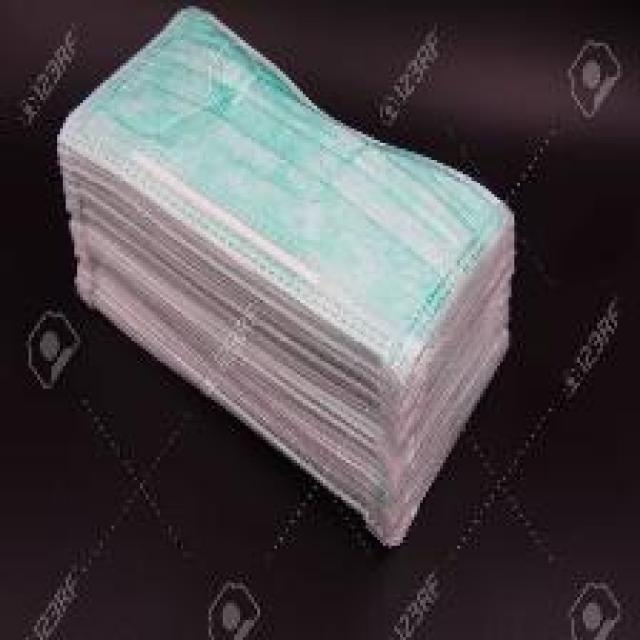Mask: (54, 39, 526, 544)
